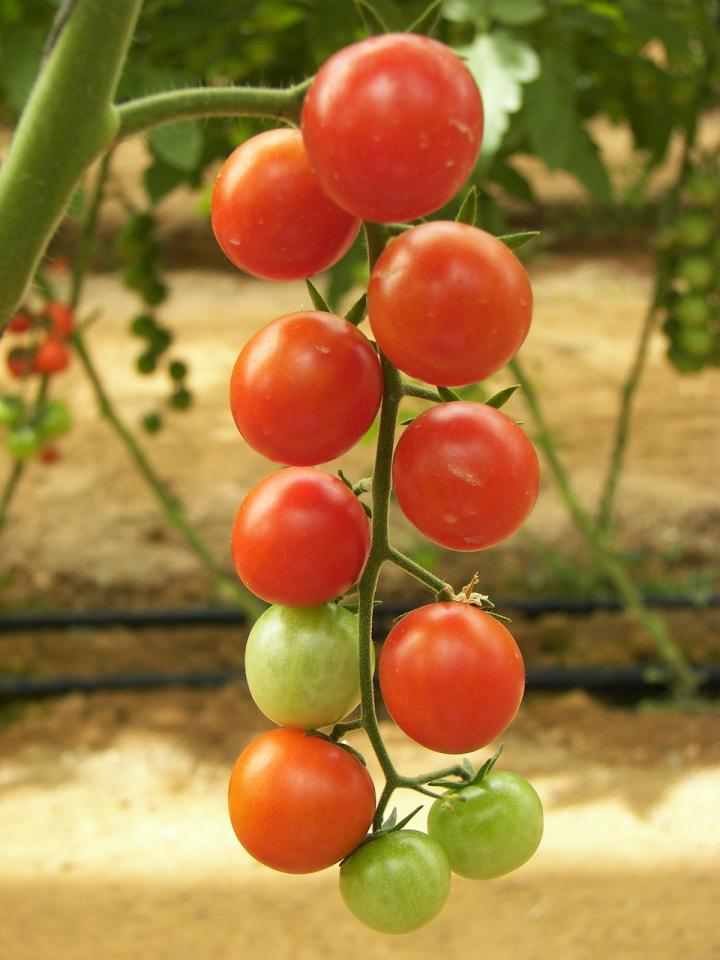stems: (388, 544, 456, 604), (399, 766, 476, 791), (369, 781, 396, 836), (325, 716, 368, 745), (400, 383, 453, 405), (329, 580, 361, 610), (342, 291, 366, 327), (348, 472, 375, 501), (379, 221, 415, 237)
tomato: (300, 29, 488, 223), (365, 220, 532, 388), (206, 125, 365, 283), (229, 310, 387, 466), (391, 402, 541, 553), (380, 601, 524, 754), (228, 730, 376, 874), (232, 467, 374, 607), (244, 604, 377, 728), (427, 772, 545, 880), (340, 829, 450, 934)
